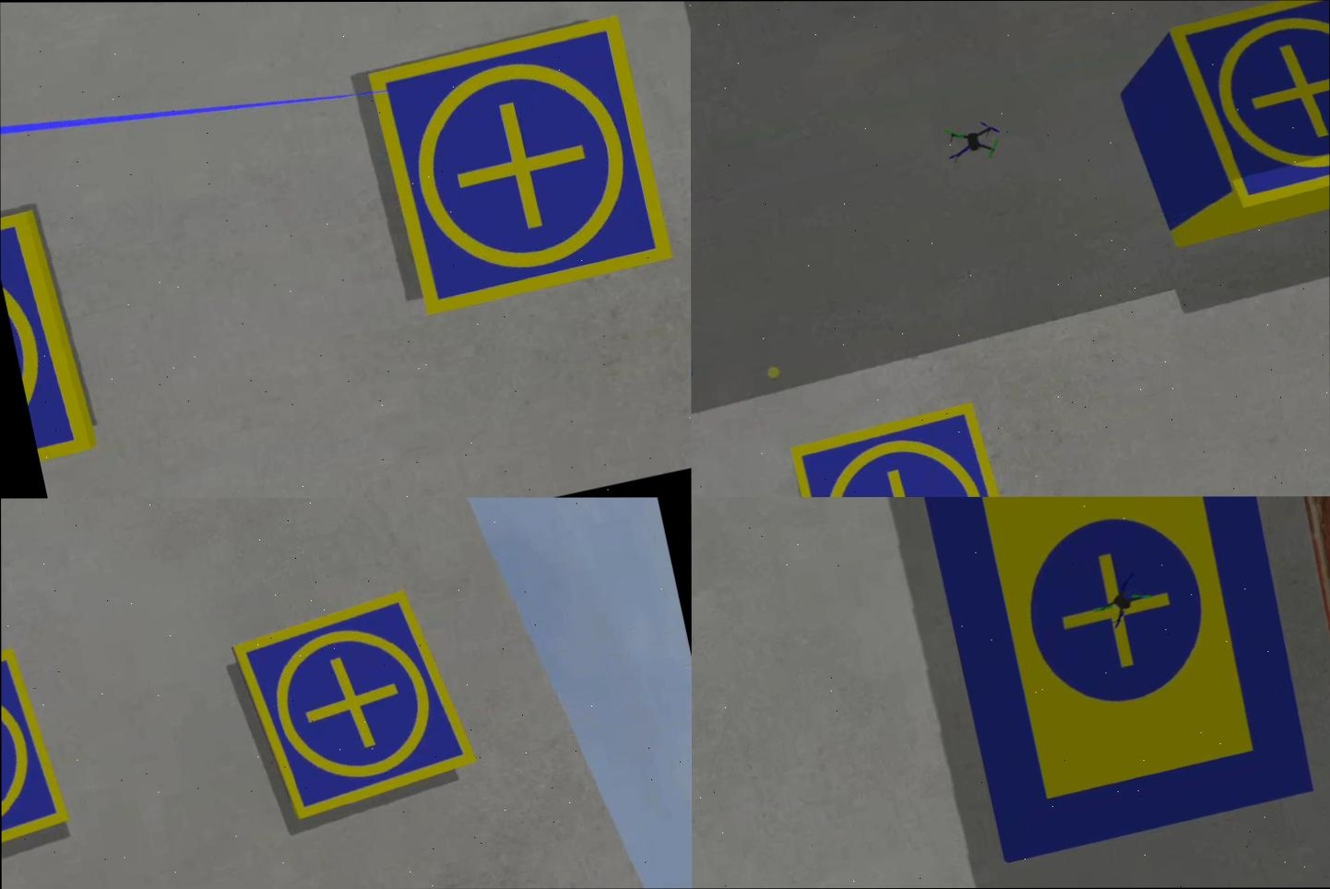large_base: (904, 496, 1324, 863)
small_base: (362, 10, 677, 316), (227, 582, 485, 827), (1166, 0, 1329, 219), (1, 198, 101, 467), (789, 398, 1027, 497), (1, 642, 78, 883)
